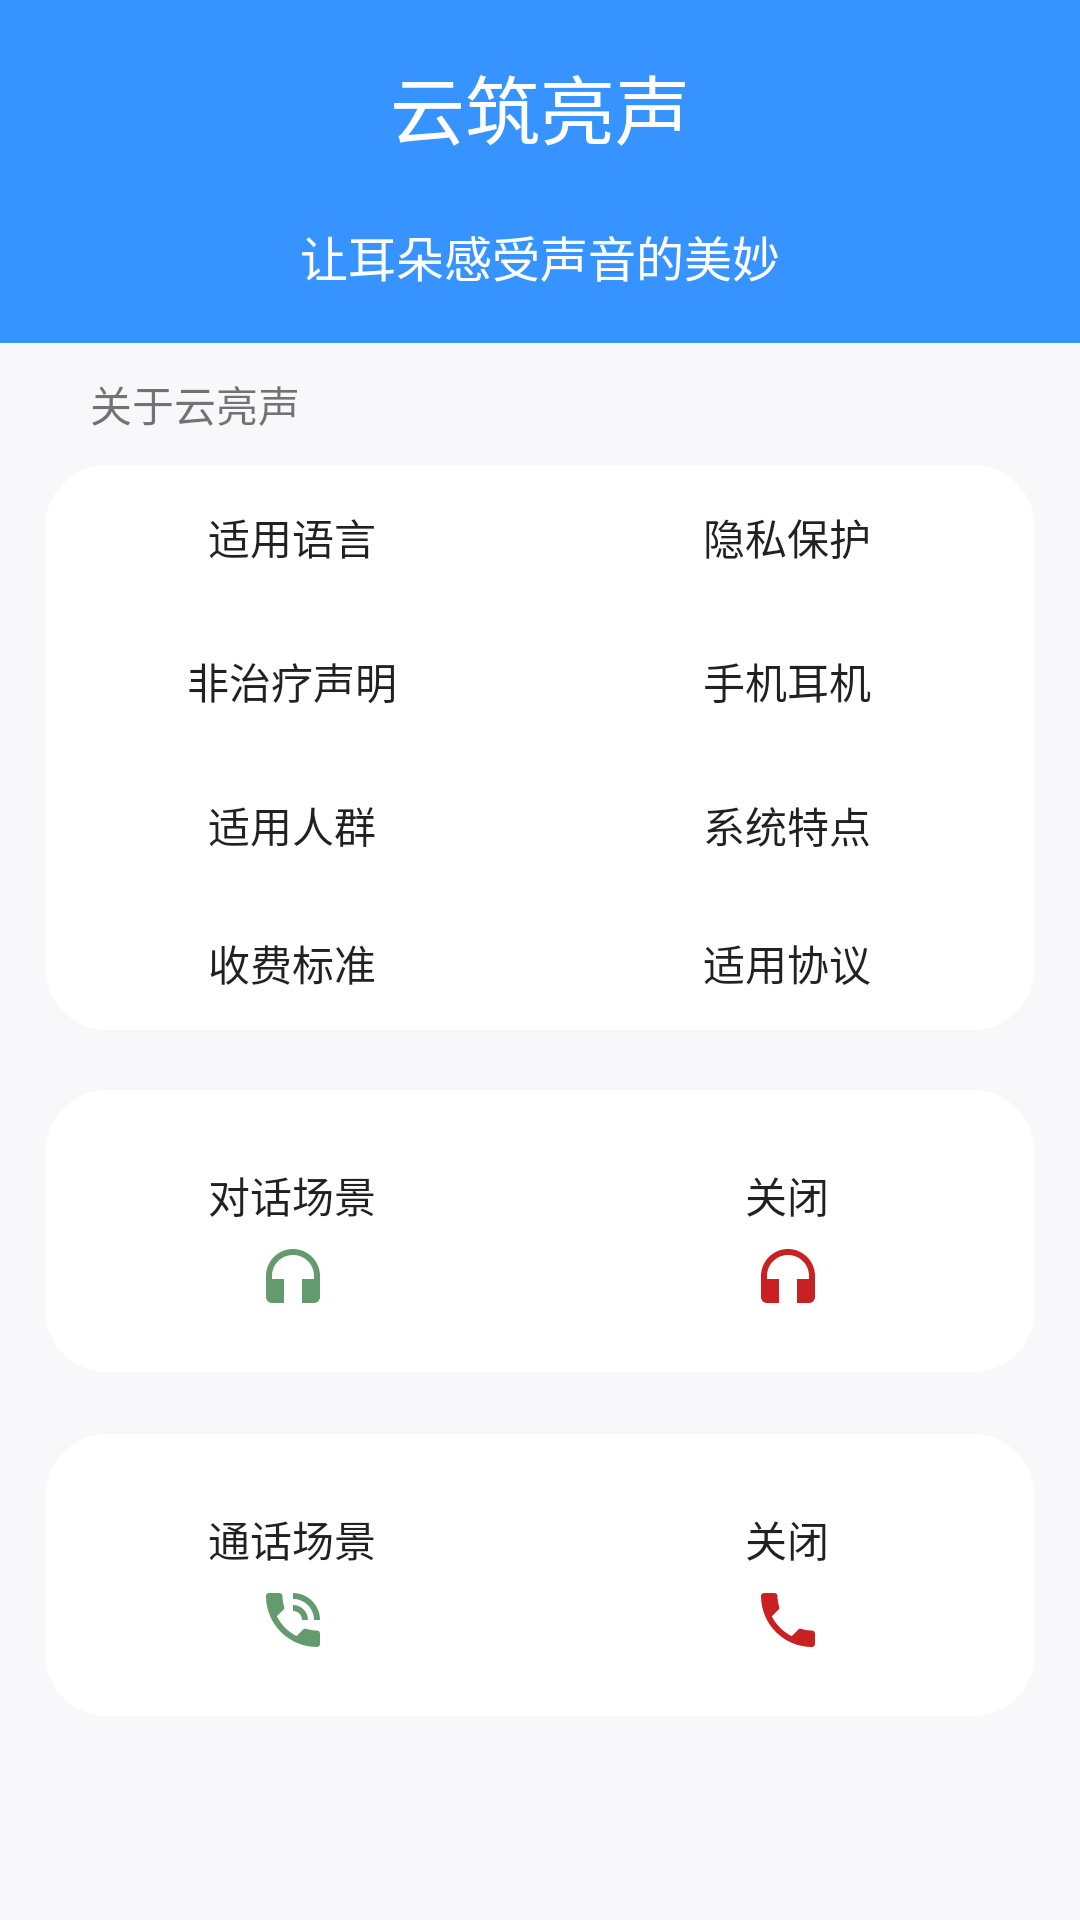

Locate icon controls on the screen. Image size 1080 x 1920, boxes as (x1, y1, x2, y2).
headphone close: (761, 1249, 815, 1303)
headphone open: (266, 1249, 320, 1303)
phone hang up: (761, 1593, 815, 1647)
phone in talk: (266, 1593, 320, 1647)
